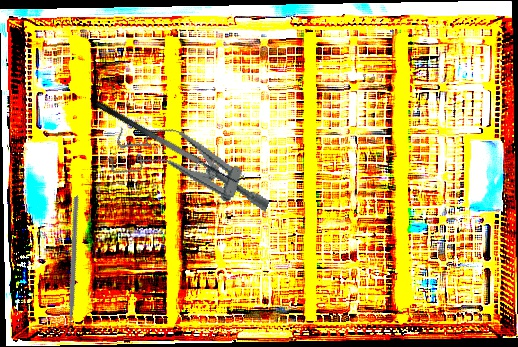Chopper: (1, 195, 136, 342)
Spatula Surgical: (94, 88, 246, 192)
Speculum: (104, 112, 282, 224)
